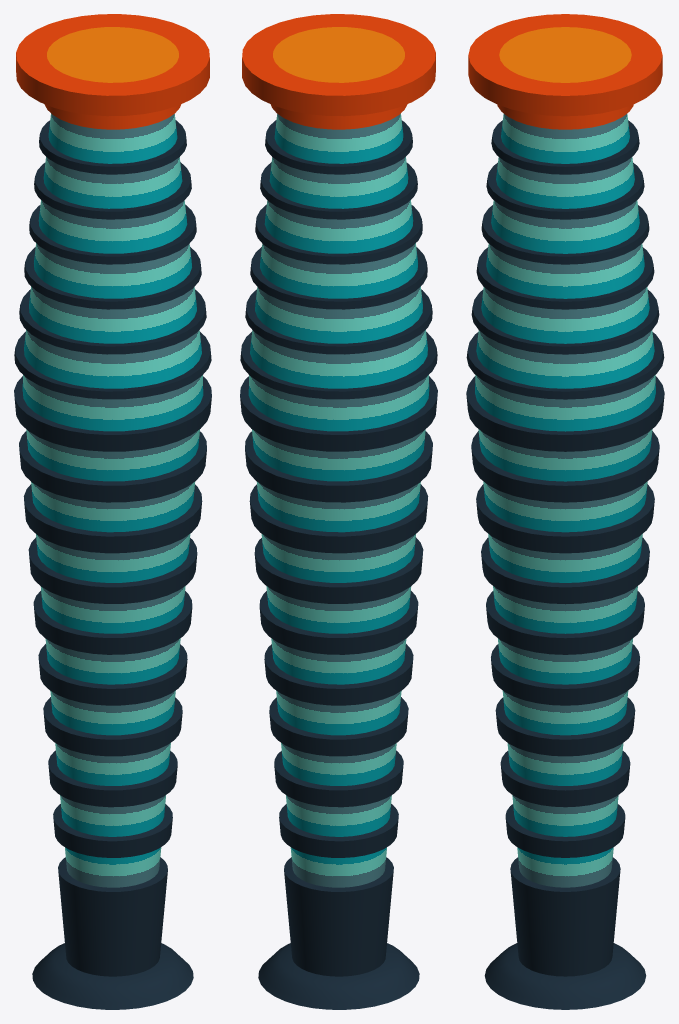
Rendered from Buildings_BatterCail_1.fbx.
The picture shows the model from 3 angles, left to right: view 1: azimuth 30°, elevation 25°; view 2: azimuth 150°, elevation 25°; view 3: azimuth 270°, elevation 25°; orthographic projection.
Visible parts, largest first — view 1: BatteryCoil_1; view 2: BatteryCoil_1; view 3: BatteryCoil_1.
Boxes of the visible parts, x1=… form: BatteryCoil_1: x1=14, y1=14, x2=211, y2=1009; BatteryCoil_1: x1=240, y1=14, x2=437, y2=1009; BatteryCoil_1: x1=466, y1=14, x2=664, y2=1009.
Bounding box in the file's own units: 79.86 × 409 × 79.86.
